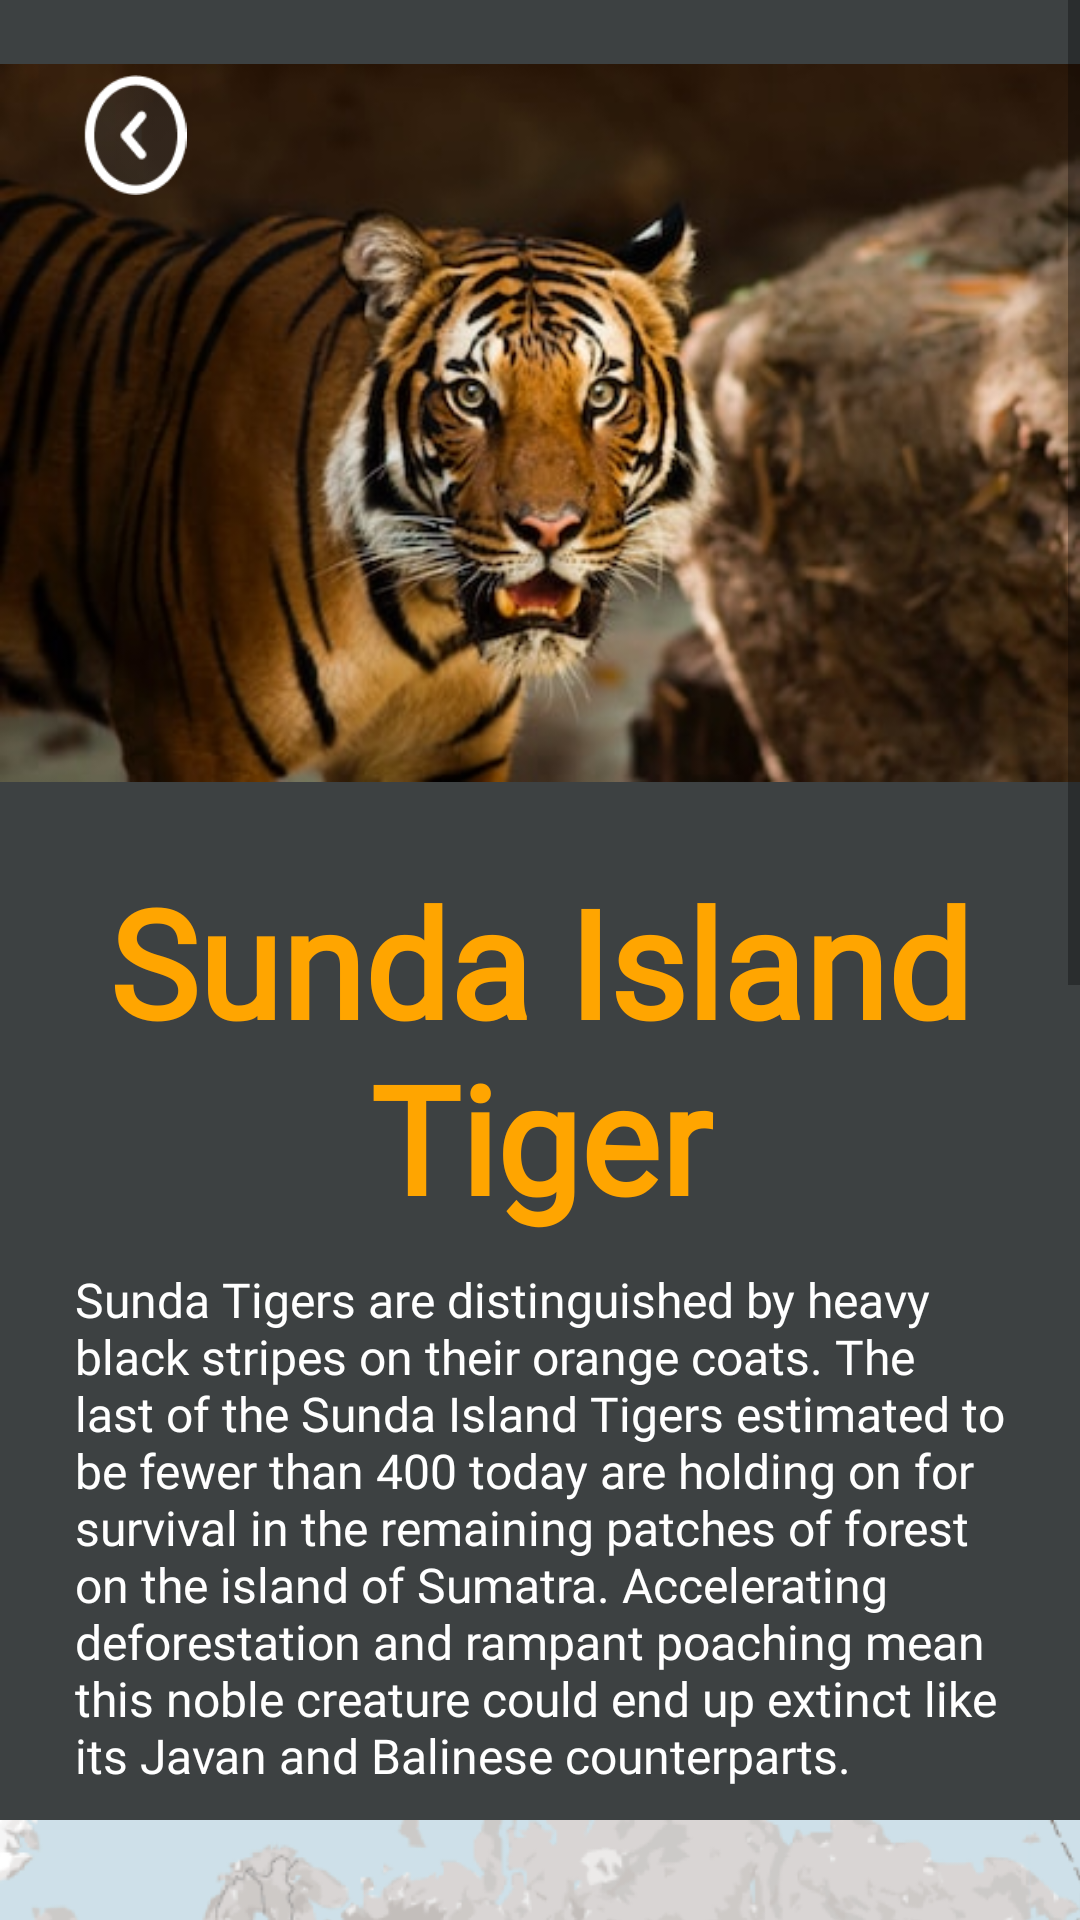

Where to tap for icons on this 1080px x 1920px app screen, as point (x, y):
back: point (131, 135)
